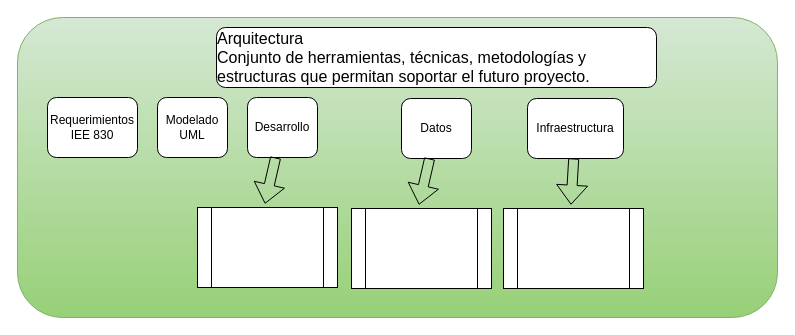
Some shapes in this 795 by 335 pixel diagram are drawn without their labels. The shapes that lost their labels are listed below. From the top down, each one's box as (x1, y1, x2, y2) in pixels, then its label:
(196, 206, 338, 288): Lenguajes de progaramación tipados no tipados
(350, 208, 492, 288): Motores de base de datos SQL NOSQL
(502, 208, 644, 288): Servidores InHouse Cloud
